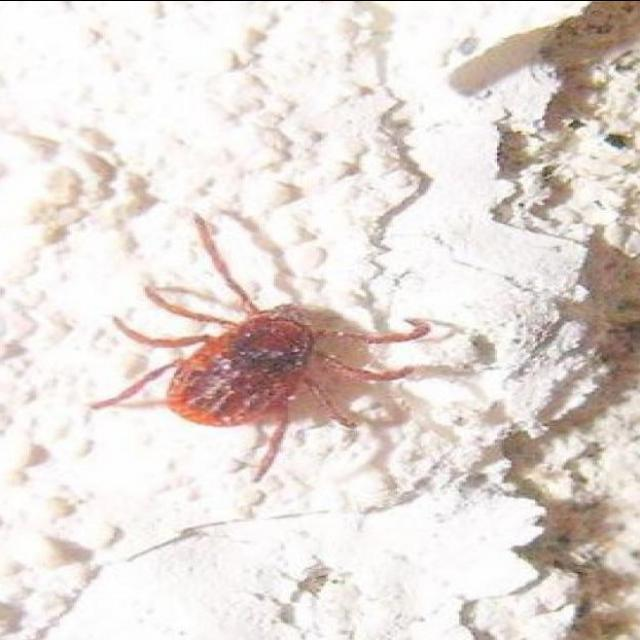Rhipicephalus Sanguineus-F: (93, 212, 490, 483)
